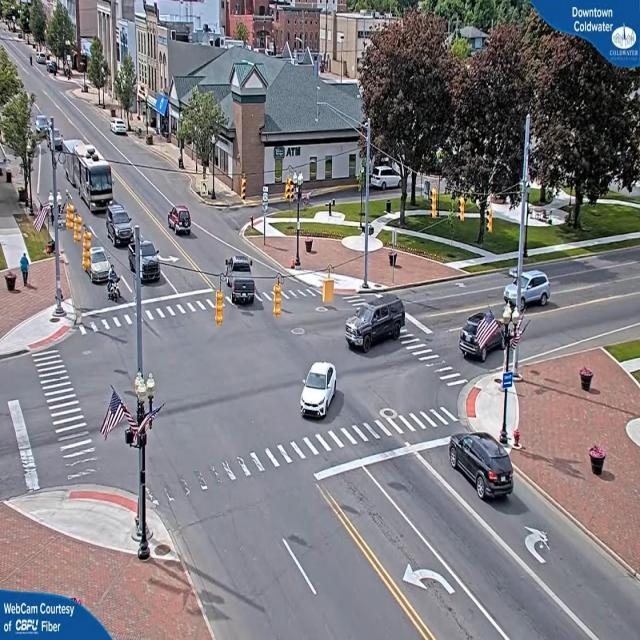car: (448, 432, 514, 502), (345, 295, 405, 354), (460, 308, 507, 360), (300, 364, 340, 419), (222, 258, 256, 308), (523, 269, 553, 310), (85, 246, 114, 283), (138, 239, 162, 283), (108, 210, 136, 246), (166, 207, 193, 237), (112, 120, 130, 136)
motorbike: (101, 272, 121, 304)
truck: (77, 158, 114, 214)
